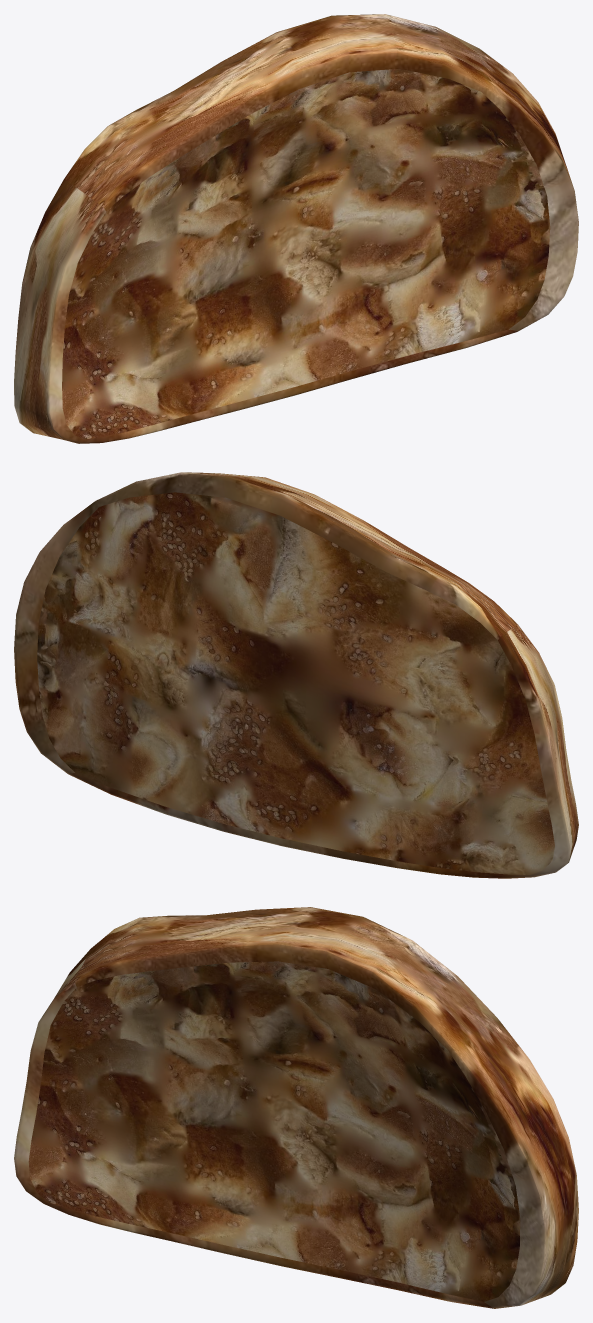
3 renders of one model, top to bottom at view 1: azimuth 30°, elevation 25°; view 2: azimuth 150°, elevation 25°; view 3: azimuth 330°, elevation 25°, orthographic.
Size of the model in its own units: 1 by 0.6101 by 0.1319.
